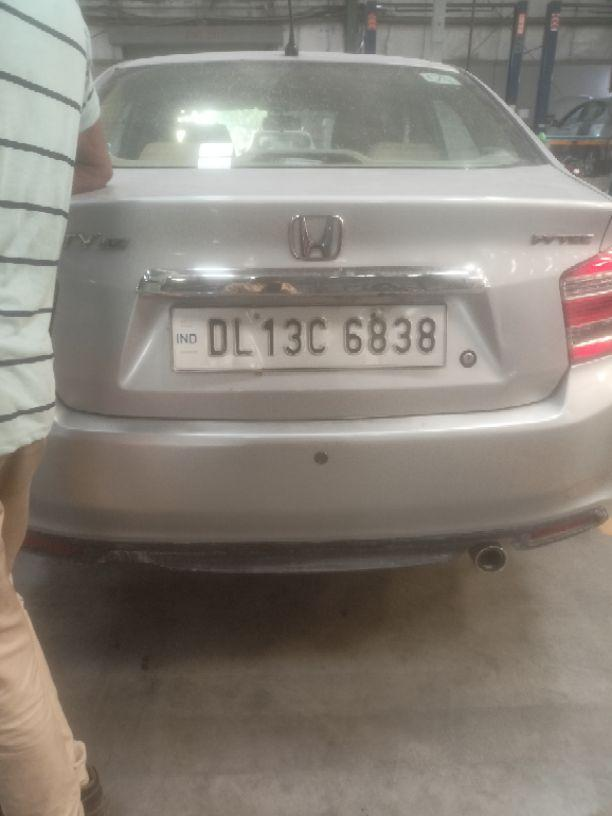license_plate: (168, 300, 448, 373)
